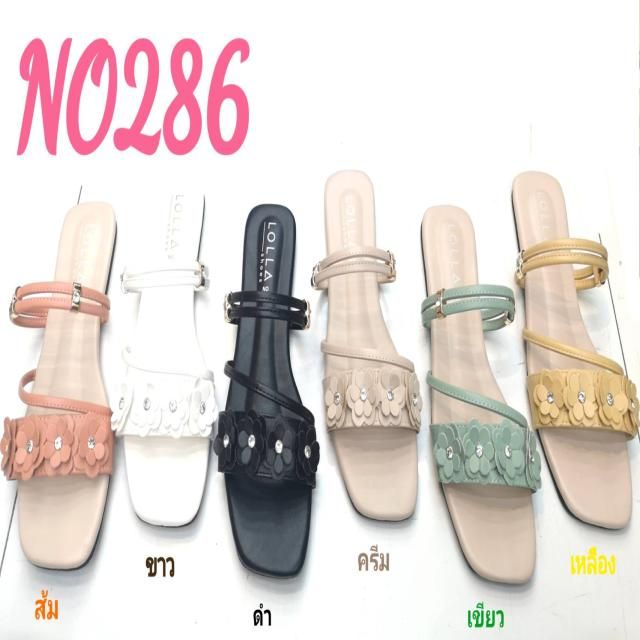black: (226, 200, 318, 579)
cream: (319, 167, 420, 518)
green: (419, 202, 537, 590)
orange: (511, 170, 635, 533), (16, 203, 113, 576)
white: (121, 178, 213, 532)
